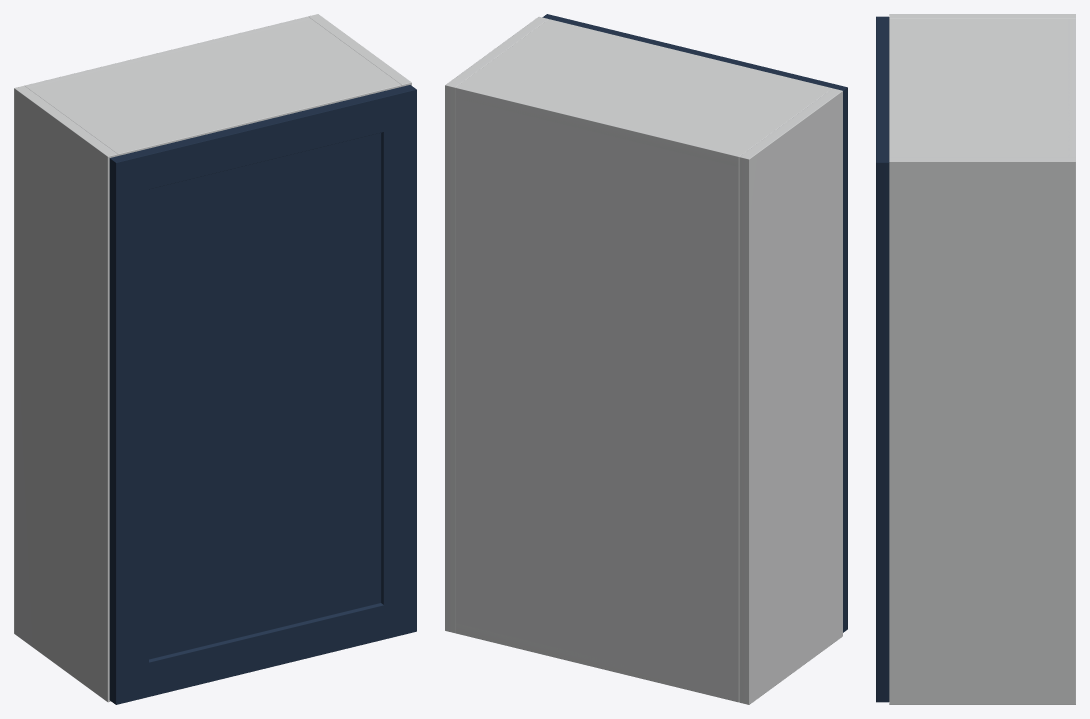
Rendered from oppein-ply-bss-w2136.glb.
3 views of the same model, side by side, from view 1: azimuth 30°, elevation 25°; view 2: azimuth 150°, elevation 25°; view 3: azimuth 270°, elevation 25° (orthographic).
Parts seen in each view (by area): view 1: Door, Cabinet side, Cabinet top, Cabinet back, Cabinet side.001; view 2: Cabinet back, Cabinet side, Cabinet top, Cabinet side.001, Door, Cabinet bottom; view 3: Cabinet side.001, Cabinet top, Door, Cabinet back, Cabinet side.
Boxes of the visible parts, x1=… form: Door: x1=109, y1=85, x2=416, y2=704; Cabinet side: x1=14, y1=86, x2=117, y2=702; Cabinet top: x1=24, y1=19, x2=401, y2=155; Cabinet back: x1=25, y1=16, x2=310, y2=87; Cabinet side.001: x1=308, y1=14, x2=411, y2=86; Cabinet back: x1=455, y1=85, x2=741, y2=702; Cabinet side: x1=739, y1=88, x2=842, y2=704; Cabinet top: x1=455, y1=19, x2=832, y2=166; Cabinet side.001: x1=445, y1=16, x2=548, y2=632; Door: x1=542, y1=14, x2=847, y2=632; Cabinet bottom: x1=455, y1=623, x2=739, y2=702; Cabinet side.001: x1=889, y1=157, x2=1075, y2=704; Cabinet top: x1=889, y1=19, x2=1075, y2=156; Door: x1=876, y1=16, x2=889, y2=702; Cabinet back: x1=1068, y1=19, x2=1075, y2=156; Cabinet side: x1=889, y1=14, x2=1075, y2=18.
Size of the model in its own units: 0.5334 by 0.9144 by 0.3048.
